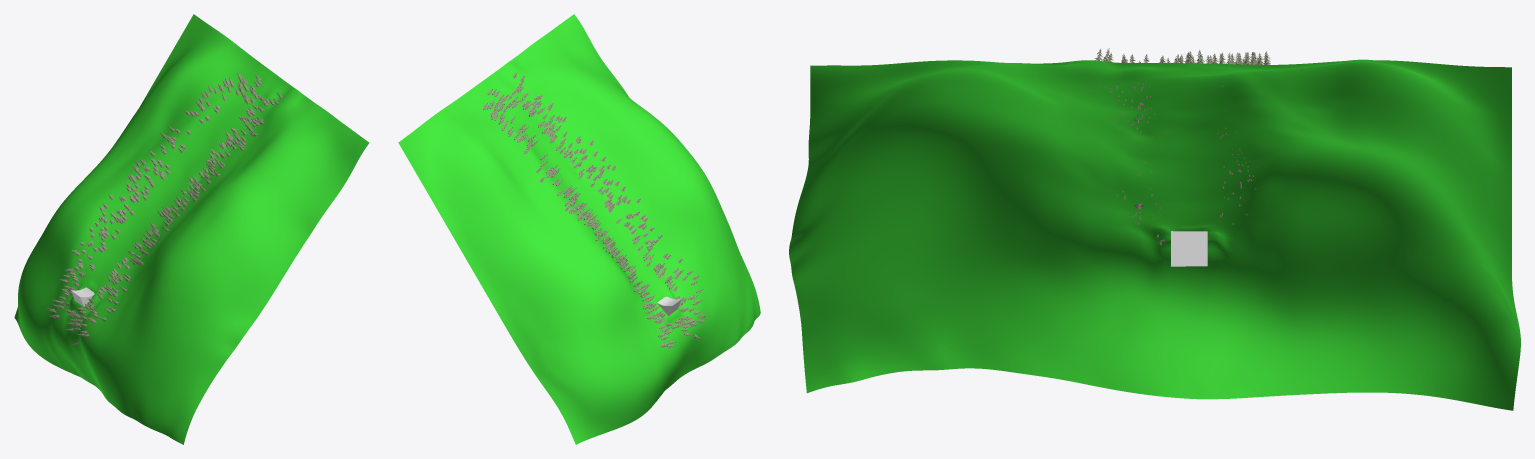
Rendered from TerrainGrass.fbx.
3 renders of one model, left to right at view 1: azimuth 30°, elevation 25°; view 2: azimuth 150°, elevation 25°; view 3: azimuth 270°, elevation 25°, orthographic. The views are drawn at different scales.
Parts seen in each view (by area): view 1: Landscape.002; view 2: Landscape.002; view 3: Landscape.002, jumpramp.
Boxes of the visible parts, left/top/right/bottom form: Landscape.002: left=14, top=14, right=369, bottom=444; Landscape.002: left=398, top=14, right=760, bottom=444; Landscape.002: left=789, top=59, right=1520, bottom=410; jumpramp: left=1171, top=231, right=1207, bottom=266.
Size of what is drawn, in the model's own units: 11515 by 13602 by 17197.
